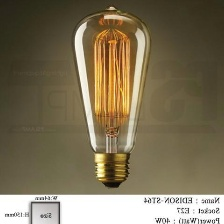light_bulb: (67, 0, 155, 192)
